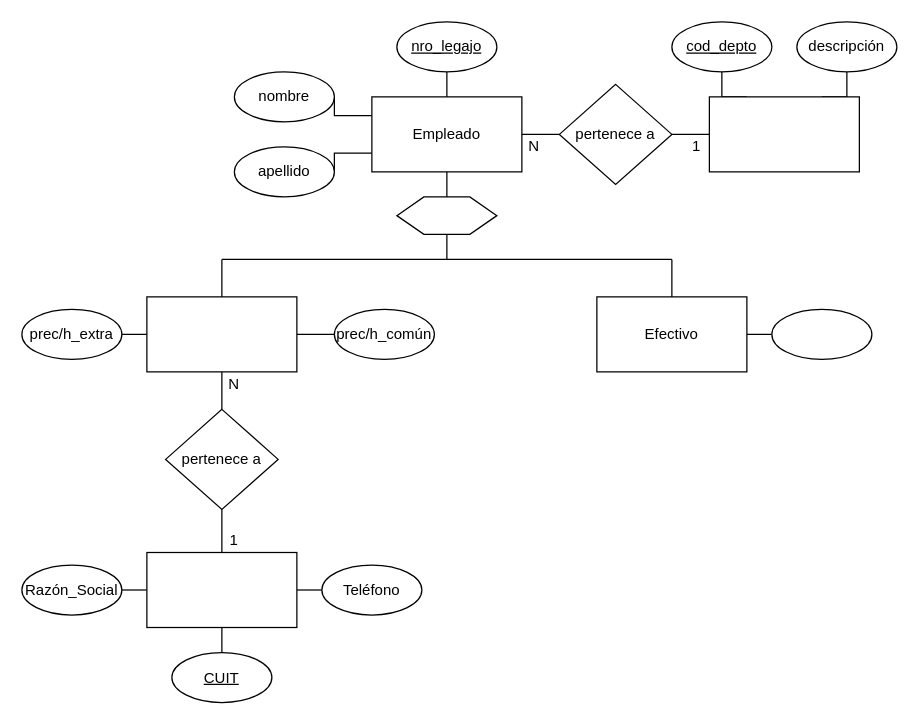
Some shapes in this 919 by 725 pixel diagram are drawn without their labels. Here are the shapes that lost their labels. From the top down, the centre of each, then its label:
pixel 783 134: Departamento
pixel 446 215: Tipo
pixel 221 334: Contratado
pixel 821 333: salario
pixel 221 589: Consultora
